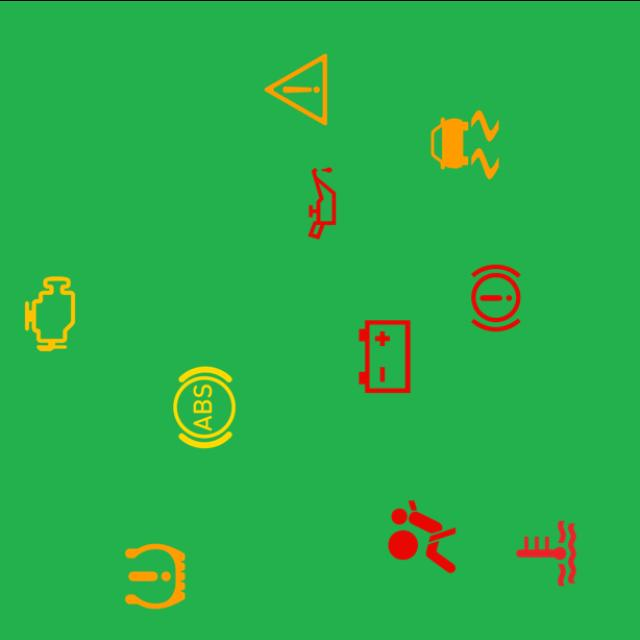Anti Lock Braking System: (160, 362, 250, 452)
Braking System Issue: (451, 252, 541, 342)
Charging System Issue: (340, 310, 430, 400)
Check Engine: (5, 268, 95, 358)
Electronic Stability Problem -ESP-: (420, 99, 510, 189)
Engine Overheating Warning Light: (501, 508, 591, 598)
Low Engine Oil Warning Light: (277, 157, 367, 247)
Low Tire Pressure Warning Light: (110, 530, 200, 620)
Master warning light: (251, 44, 341, 134)
SRS-Airbag: (377, 491, 467, 581)
